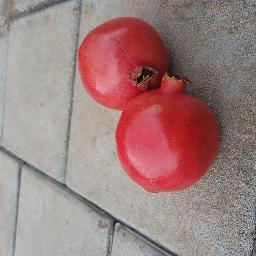Good_pomegranate: (68, 18, 220, 196)
